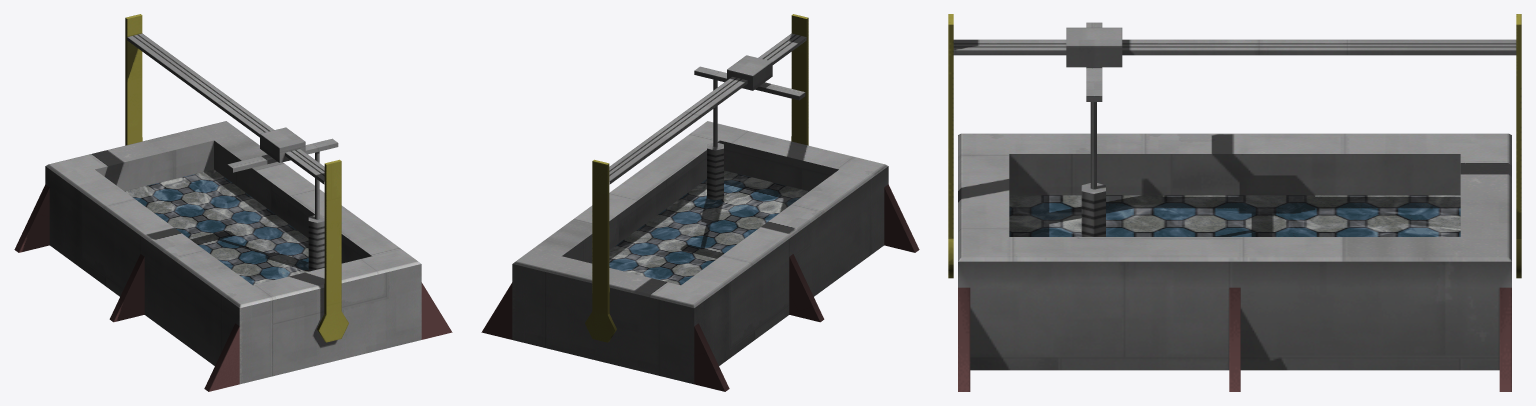
Rendered from OBJ_FuelRod_bath.FBX.
3 renders of one model, left to right at view 1: azimuth 30°, elevation 25°; view 2: azimuth 150°, elevation 25°; view 3: azimuth 270°, elevation 25°, orthographic. The views are drawn at different scales.
Visible parts, largest first — view 1: OBJ_FuelRod_bath; view 2: OBJ_FuelRod_bath; view 3: OBJ_FuelRod_bath.
Boxes of the visible parts, box(x1,y1,x2,y2) form: OBJ_FuelRod_bath: box(14, 14, 452, 391); OBJ_FuelRod_bath: box(481, 14, 919, 391); OBJ_FuelRod_bath: box(948, 14, 1521, 391).
Bounding box in the file's own units: 2.51 × 1.99 × 3.59.
Materials: 1 (1 with a texture image).
